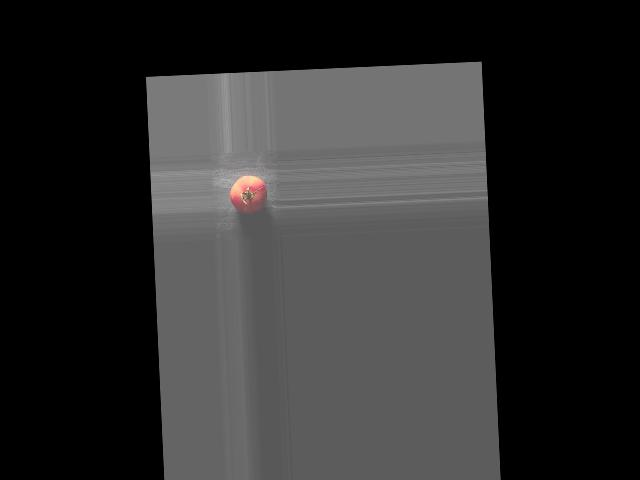tomato: (229, 174, 267, 213)
